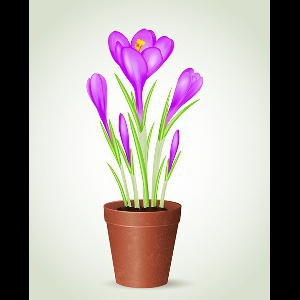flowerpot: (104, 197, 184, 289)
